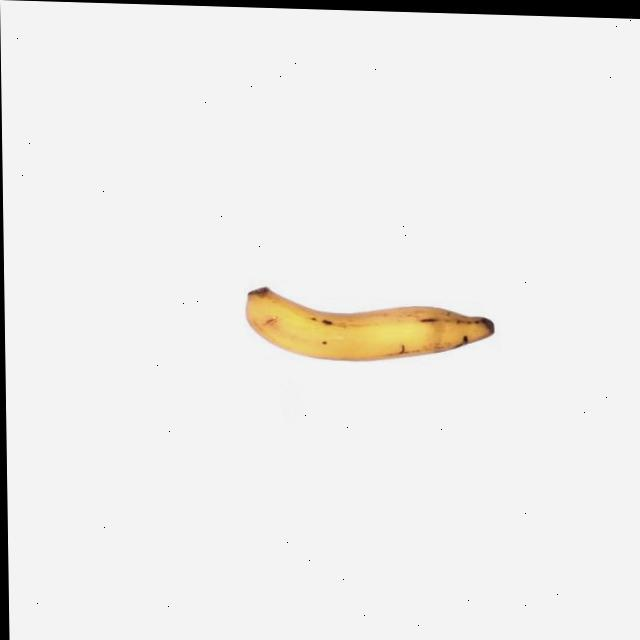banana: (241, 284, 497, 370)
